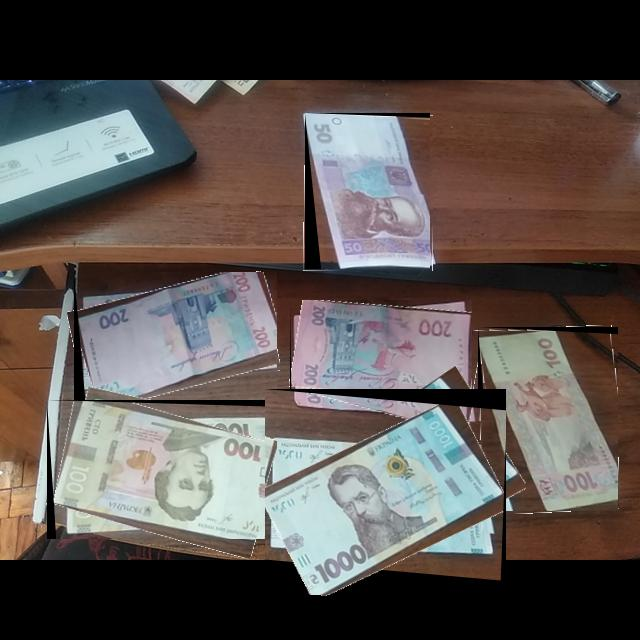1000uah: (265, 401, 505, 596)
100uah: (52, 401, 277, 540), (479, 330, 619, 512)
200uah: (78, 272, 278, 410), (291, 300, 473, 404)
50uah: (305, 113, 431, 270)
